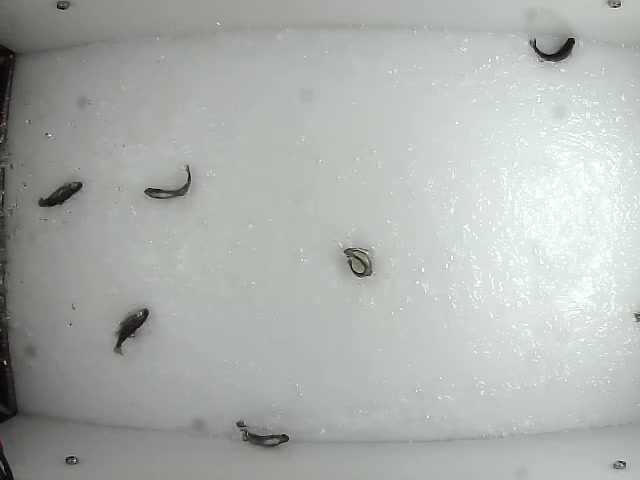fish: (142, 161, 193, 201), (112, 306, 150, 357), (235, 419, 290, 449), (35, 179, 82, 211), (527, 35, 578, 64), (339, 246, 375, 279)
